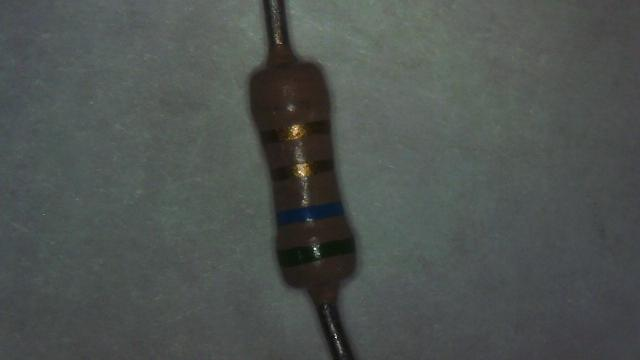blue: (276, 202, 344, 225)
gold: (262, 120, 330, 142), (272, 158, 334, 180)
green: (276, 238, 356, 266)
resistor: (226, 50, 390, 318)
